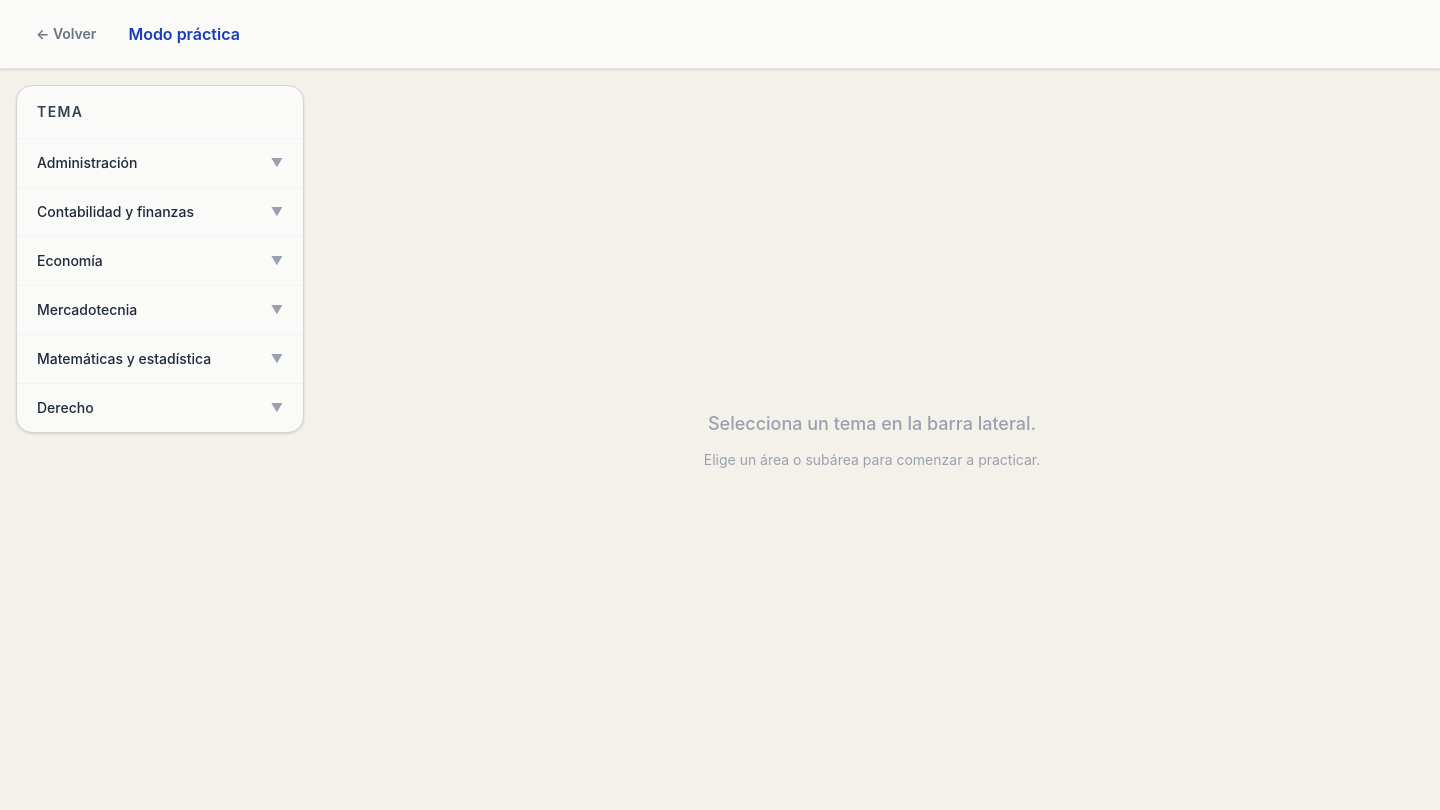
Test: PracticaContainer — sidebar › al expandir un área muestra sus subáreas
Click the button "Administración ▼": (87, 162) 17,139 -> 303,187
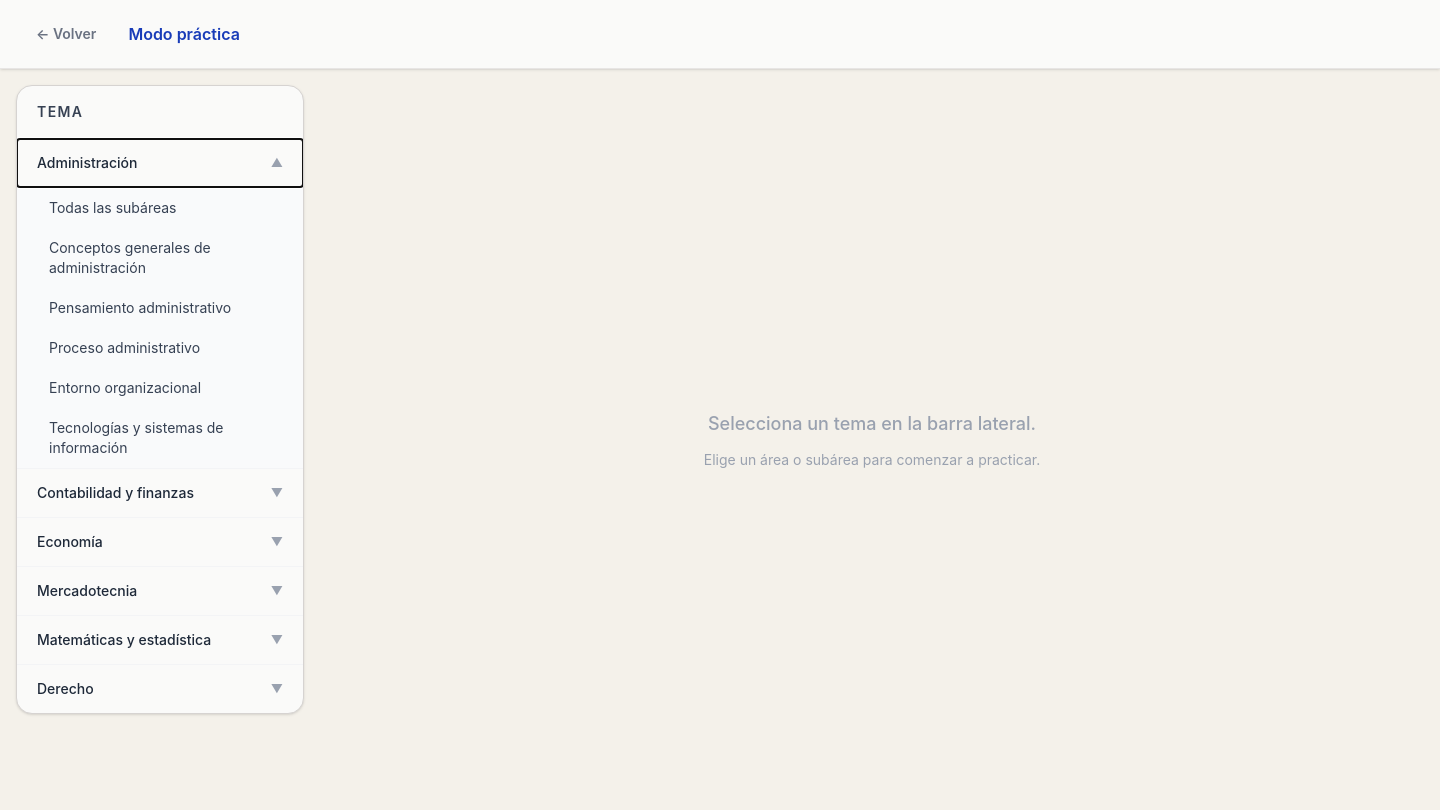
Check: the button "Conceptos generales de administración" is shown, box 17,228 -> 303,288
Check: the button "Pensamiento administrativo" is shown, box 17,288 -> 303,328
Check: the button "Todas las subáreas" is shown, box 17,188 -> 303,228
